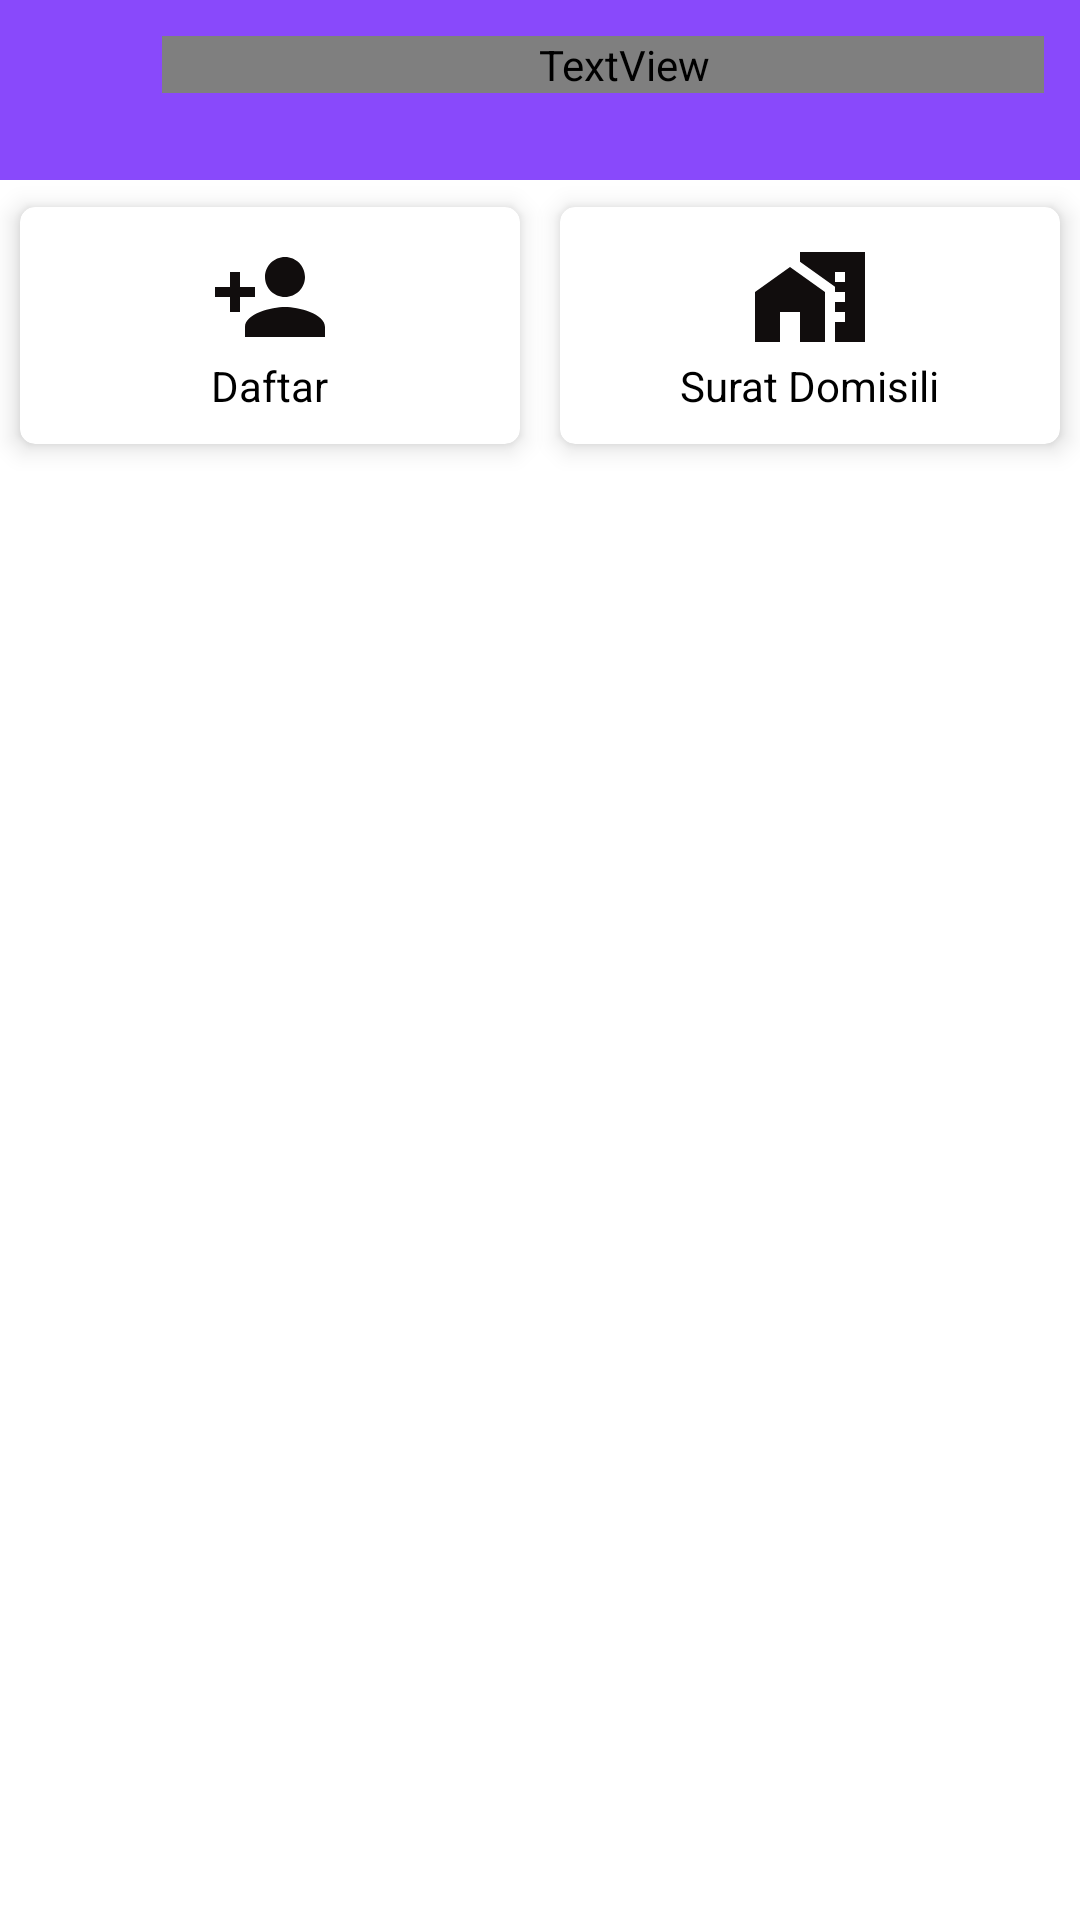

Screen size 1080px×1920px. Icon name, then its center in pixels as (x,y):
home work: (810,297)
person add: (270,297)
